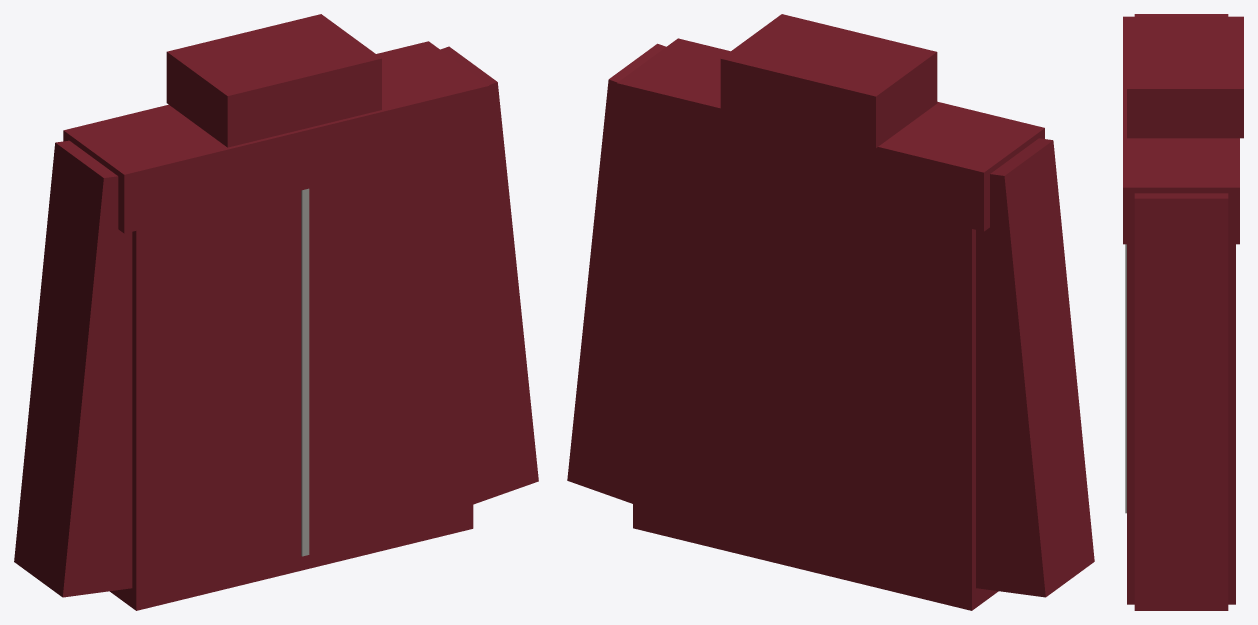
The model's file is bedroom-jacket-on-hook.glb.
The picture shows the model from 3 angles, left to right: view 1: azimuth 30°, elevation 25°; view 2: azimuth 150°, elevation 25°; view 3: azimuth 270°, elevation 25°; orthographic projection. The views are drawn at different scales.
Parts seen in each view (by area): view 1: accent-crimson, brushed; view 2: accent-crimson; view 3: accent-crimson, brushed.
Boxes of the visible parts, x1,y1,x2,y2 form: accent-crimson: (14, 14, 538, 610); brushed: (301, 188, 309, 556); accent-crimson: (567, 14, 1094, 610); accent-crimson: (1123, 14, 1243, 610); brushed: (1125, 244, 1126, 513).
Size of the model in its own units: 0.6779 by 0.67 by 0.155.
